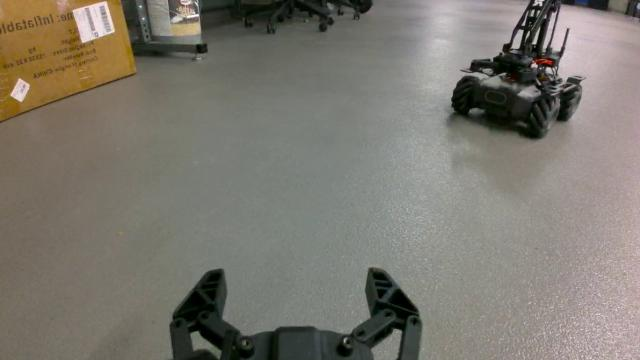robot: (452, 0, 589, 140)
